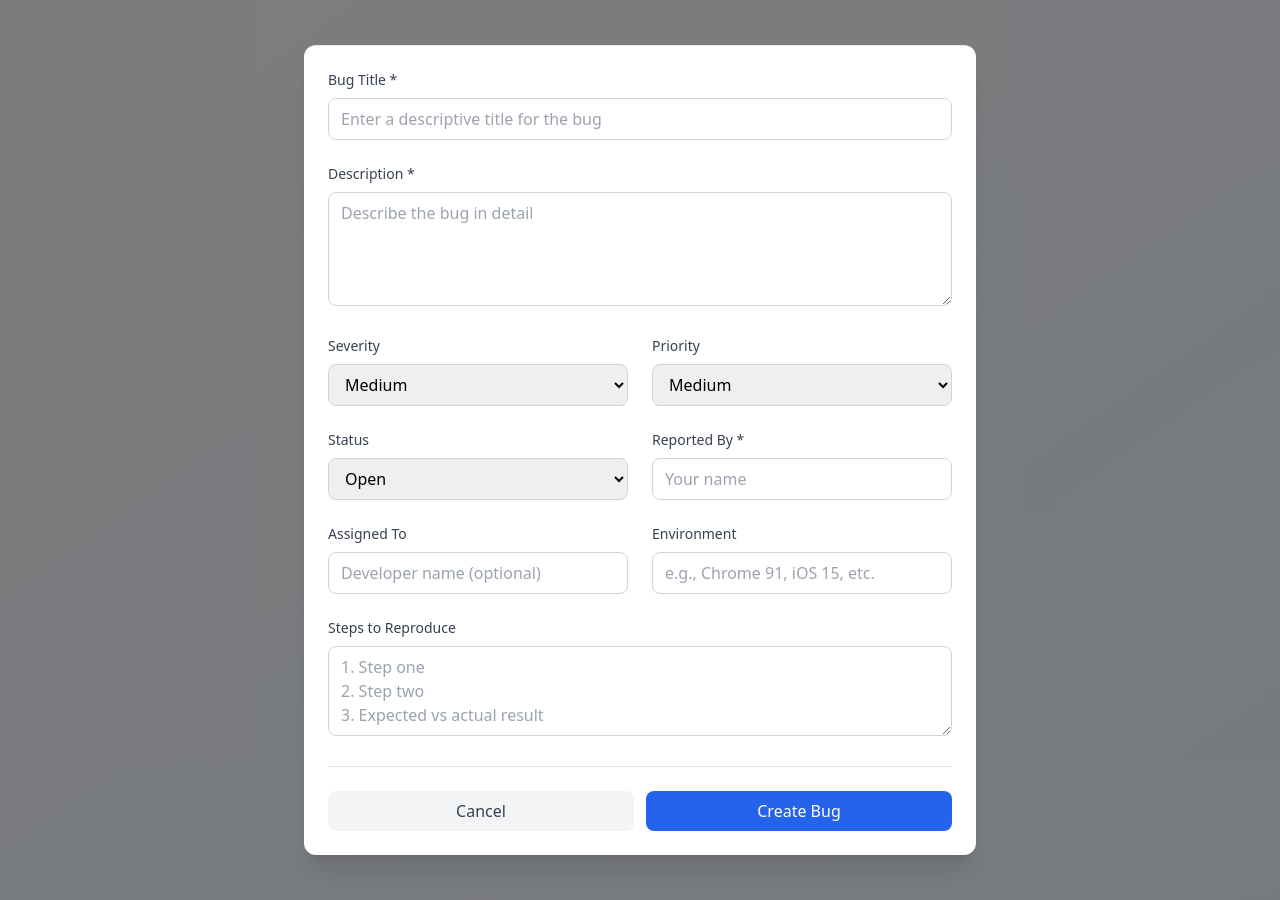
BugForm › validates required fields
This screenshot has width=1280, height=900.
(page scrolled)
Click the button "Create Bug" at (799, 811), box x1=646 y1=791 x2=952 y2=831
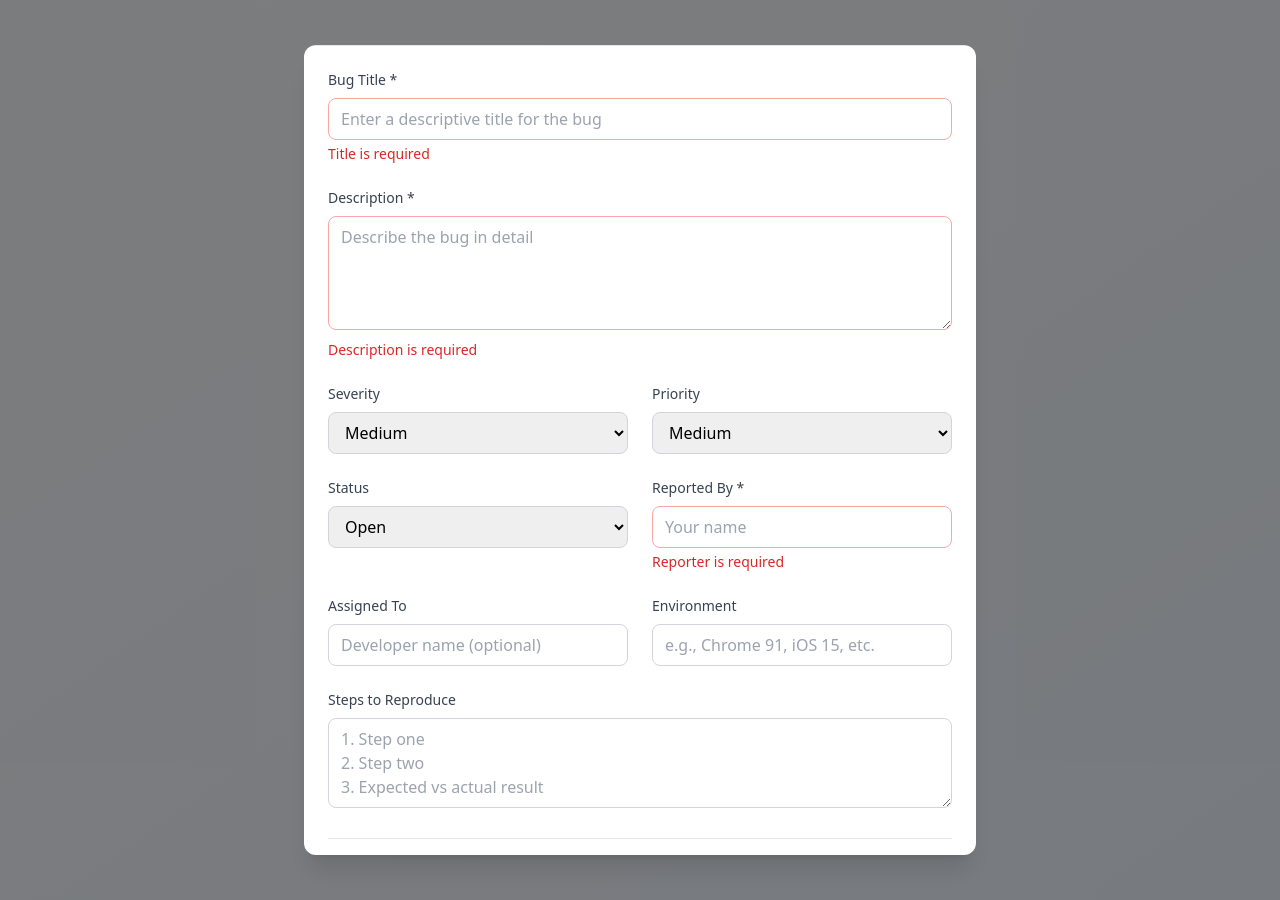
Check: the text "Title is required" is shown, box x1=328 y1=144 x2=430 y2=163
Check: the text "Description is required" is shown, box x1=328 y1=340 x2=477 y2=359
Check: the text "Reporter is required" is shown, box x1=652 y1=552 x2=784 y2=571
